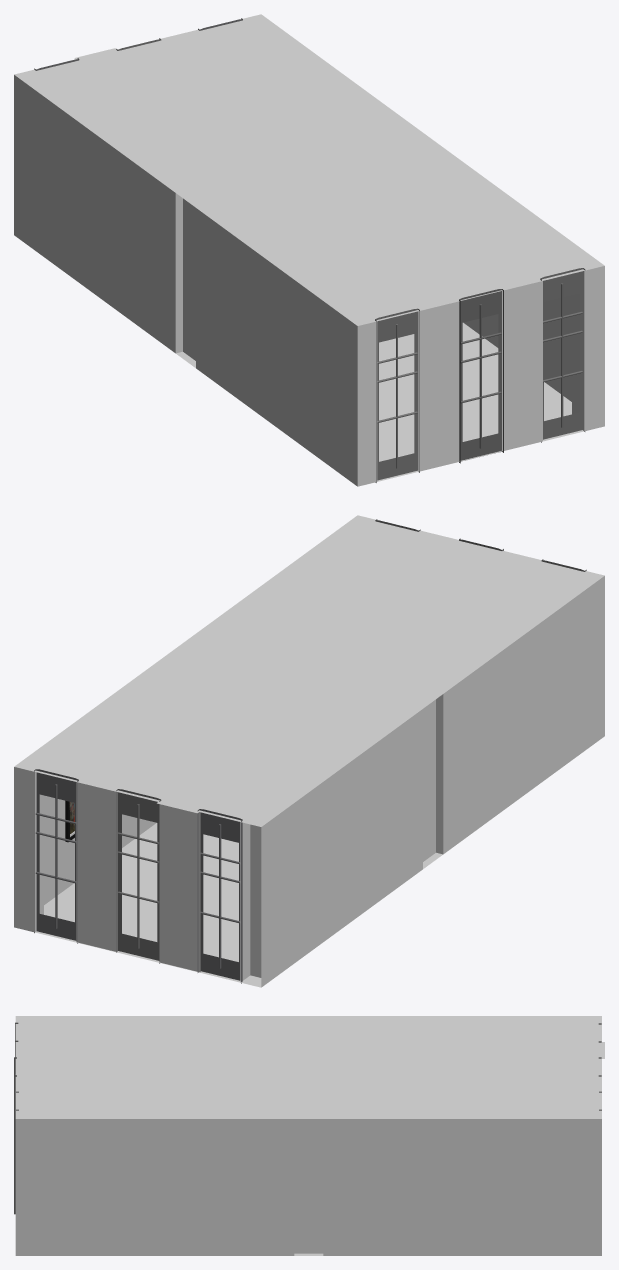
File: kunstmatrix.glb
The picture shows the model from 3 angles, top to bottom: view 1: azimuth 30°, elevation 25°; view 2: azimuth 150°, elevation 25°; view 3: azimuth 270°, elevation 25°; orthographic projection. The views are drawn at different scales.
Visible parts, largest first — view 1: Cube, Cylinder.007, Cylinder.010, Cylinder.009; view 2: Cube, Cylinder.005, Cylinder.008, Cylinder.001; view 3: Cube.
Boxes of the visible parts, left/top/right/bottom form: Cube: left=14, top=14, right=604, bottom=486; Cylinder.007: left=459, top=289, right=503, bottom=463; Cylinder.010: left=375, top=308, right=419, bottom=482; Cylinder.009: left=540, top=268, right=585, bottom=442; Cube: left=14, top=515, right=604, bottom=987; Cylinder.005: left=197, top=809, right=242, bottom=983; Cylinder.008: left=116, top=789, right=161, bottom=963; Cylinder.001: left=34, top=769, right=78, bottom=943; Cube: left=15, top=1016, right=604, bottom=1255.
Bounding box in the file's own units: 45.98 × 29.08 × 112.
13 materials, 1 textured.
